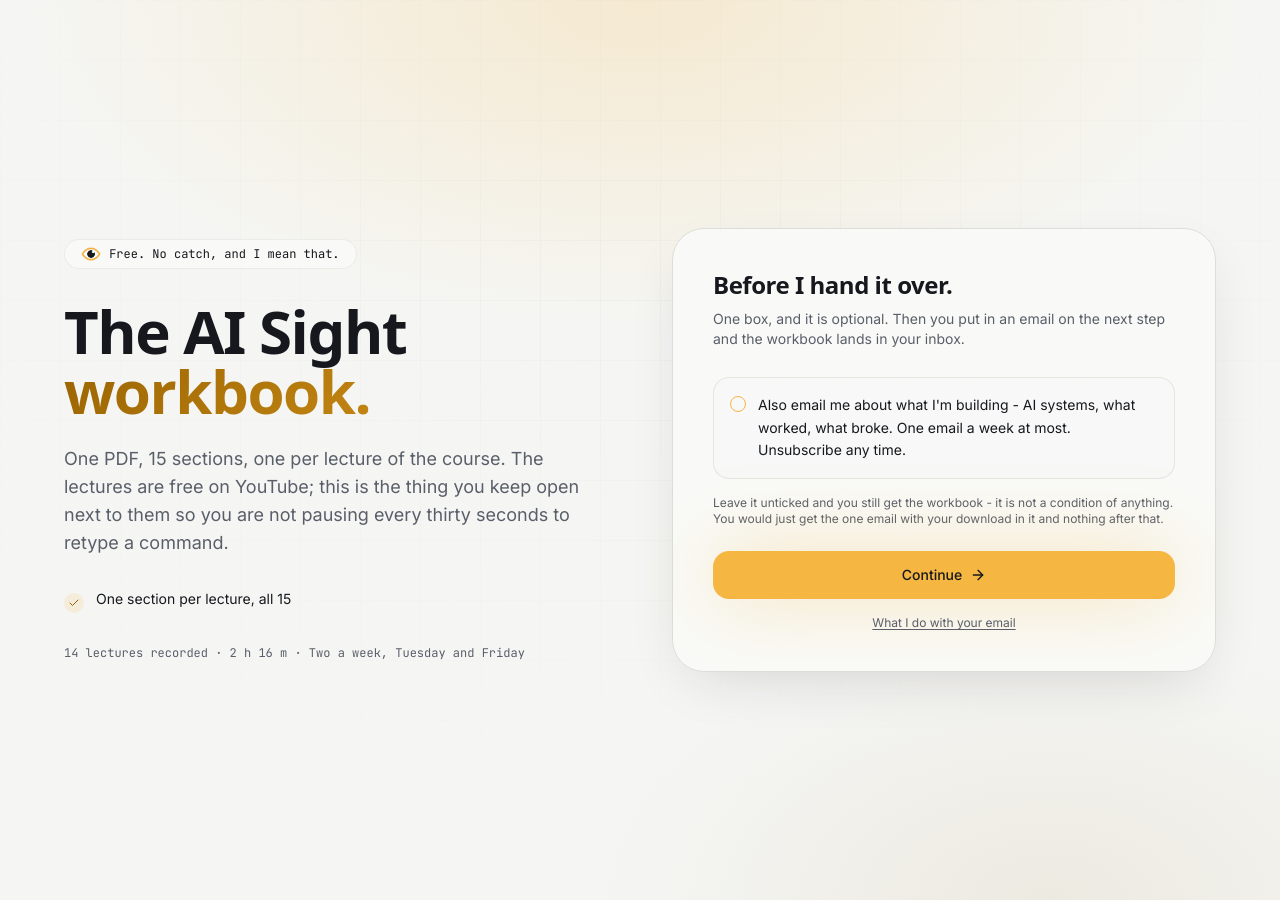
Test: the workbook consent gate › says so plainly when the Planets product is not configured
Click the button "Continue". click: (944, 575)
box: [713,551,1175,599]
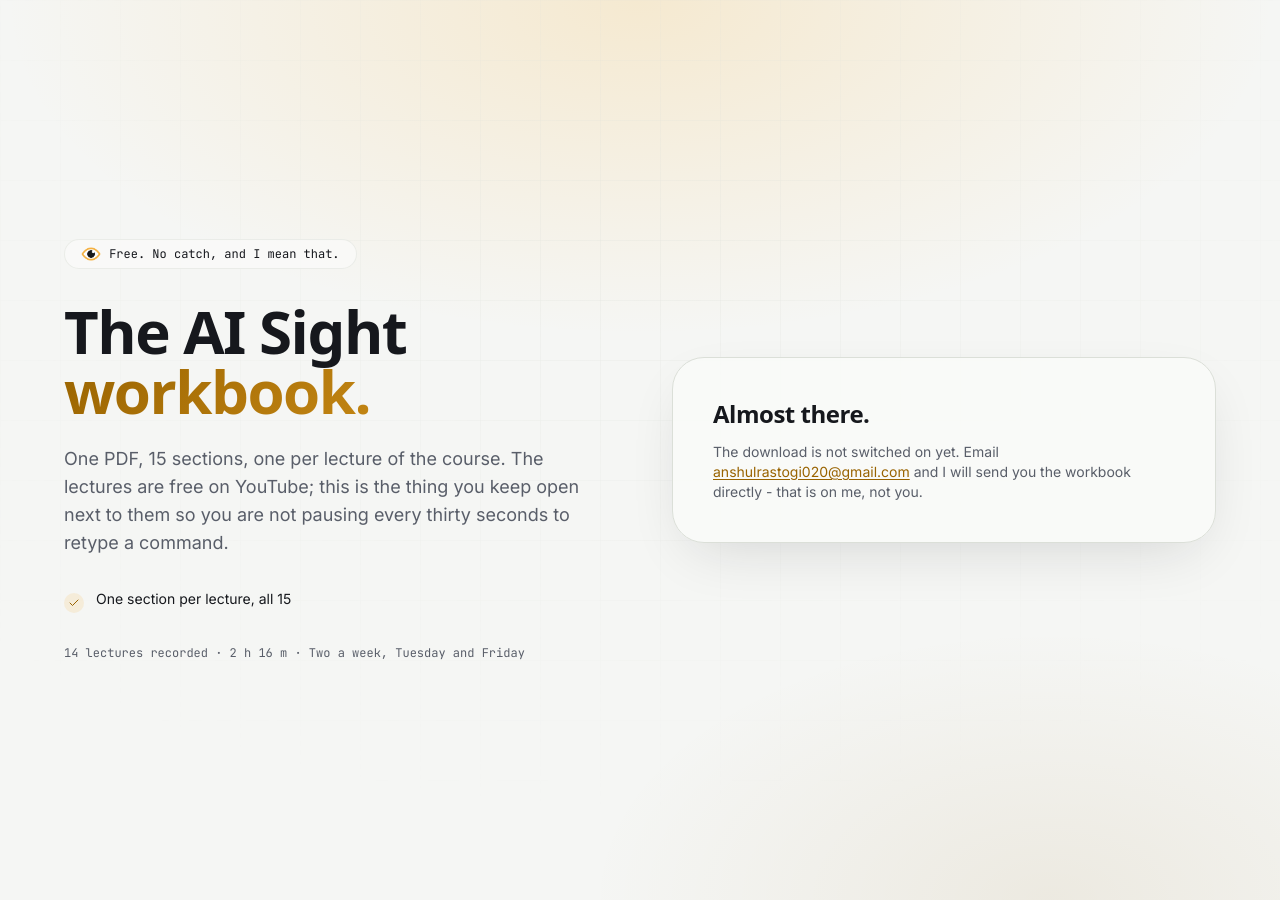
Expected: the text "download is not switched on yet" is shown, [713,443,999,460]
